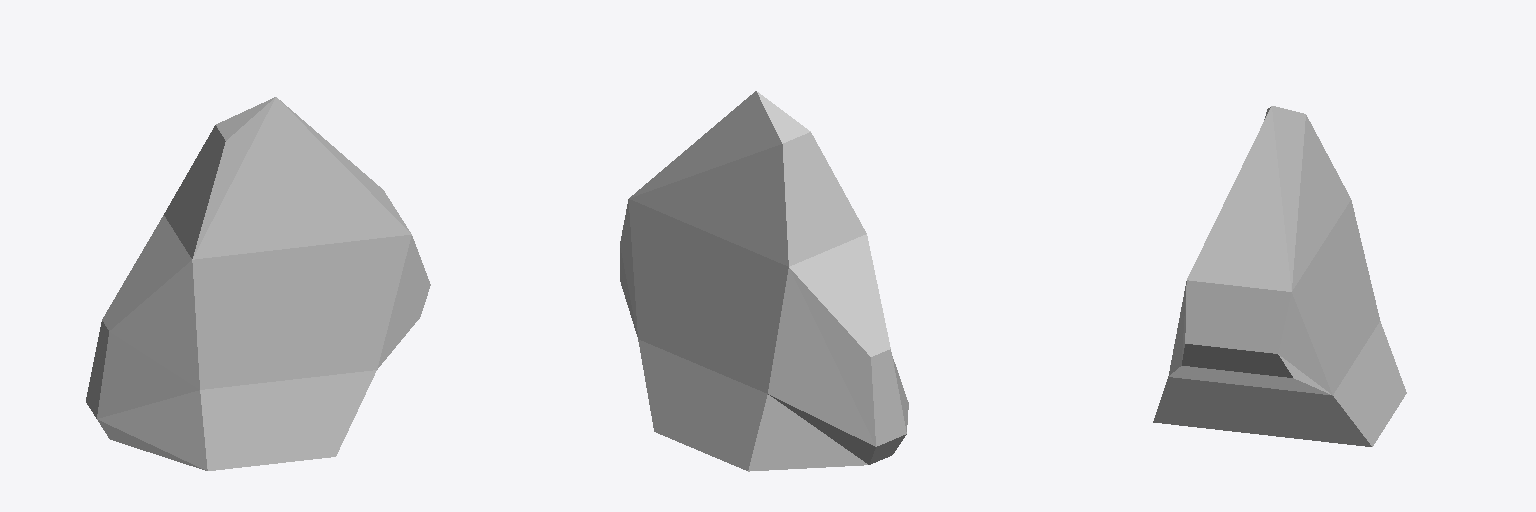
Rendered from mLv1Mountain07.obj.
3 views of the same model, side by side, from view 1: azimuth 30°, elevation 25°; view 2: azimuth 150°, elevation 25°; view 3: azimuth 270°, elevation 25° (orthographic).
Visible parts, largest first — view 1: mStoneBolder6; view 2: mStoneBolder6; view 3: mStoneBolder6.
Boxes of the visible parts, <box> form: mStoneBolder6: <box>86,97,430,470</box>; mStoneBolder6: <box>620,91,908,471</box>; mStoneBolder6: <box>1153,106,1406,446</box>.
Bounding box in the file's own units: 42.5 × 43.17 × 31.36.